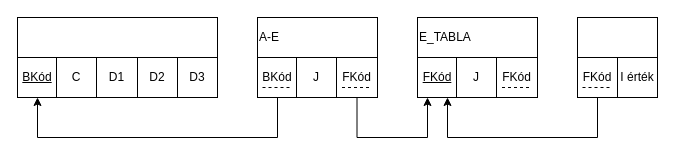
This 675x163 diagram has some shape labels left out. Here are the shapes that lost their labels. From the top down, the centre of each, then its label:
(x=117, y=37): A_TABLE
(x=617, y=37): I_TABLA
